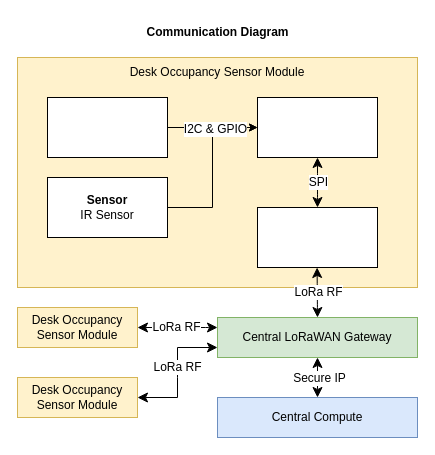
Some shapes in this 435 by 455 pixel diagram are drawn without their labels. The centre of each missing label's shape, as x and y in pixels:
LoRa Transceiver: point 317,237
MCU nRF7002 DK: point 317,127
Sensor Color Sensor: point 107,127
